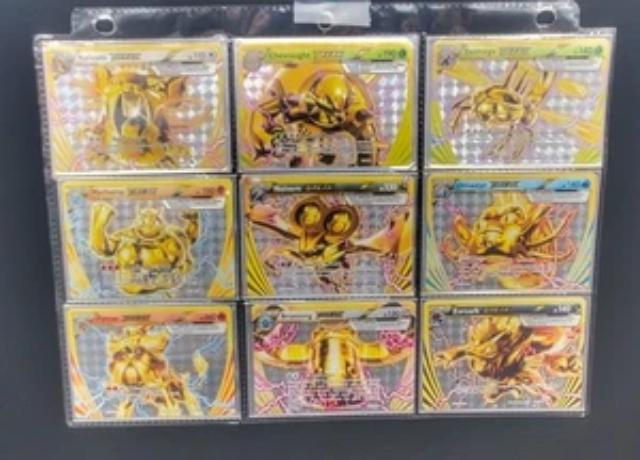Card: (41, 40, 231, 177), (427, 35, 613, 171), (234, 38, 417, 172), (418, 171, 604, 299), (56, 175, 239, 303), (238, 172, 418, 300), (62, 302, 244, 426), (417, 295, 591, 419), (244, 298, 418, 421)
Name: (261, 46, 349, 62), (458, 43, 537, 60), (451, 175, 528, 192), (87, 185, 163, 201), (448, 302, 518, 319), (75, 49, 148, 65), (269, 180, 341, 196), (88, 311, 159, 327), (276, 309, 350, 322)
